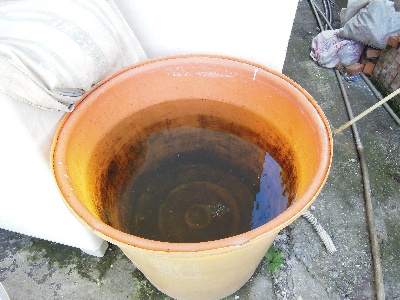bucket: (51, 52, 334, 300)
